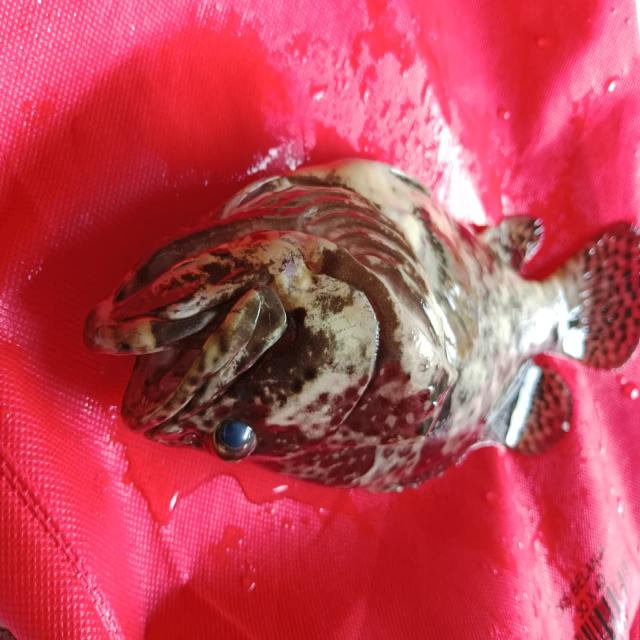ikan: (62, 124, 629, 509)
